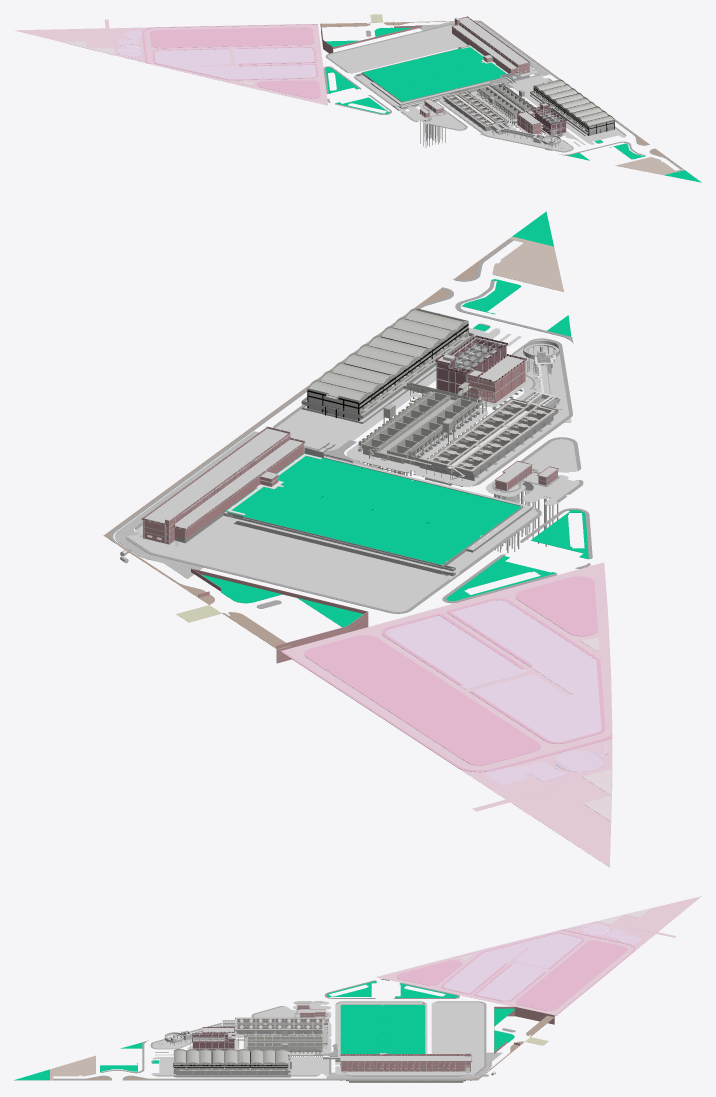
The model's file is wtp.glb.
3 renders of one model, top to bottom at view 1: azimuth 30°, elevation 25°; view 2: azimuth 150°, elevation 25°; view 3: azimuth 270°, elevation 25°, orthographic. The views are drawn at different scales.
Visible parts, largest first — view 1: Concrete_Cast_In_Situ_f_3, Asphalt_Pavement_Light_Grey_Future_f_8, Concrete_Cast_In_Situ_Future_f_9, Earth_Future_Area_f_7, Grass_f_61, Concrete_Cast_in_Place_Gray_f_90, Asphalt_Pavement_Light_Grey_f_4, Grass_f_2, Concrete_Cast_in_Place_Gray_f_81, Concrete_Cast_In_Situ_f_66, Default_Wall_f_54, Brick_Common_f_73 (+15 smaller); view 2: Concrete_Cast_In_Situ_f_3, Asphalt_Pavement_Light_Grey_Future_f_8, Concrete_Cast_In_Situ_Future_f_9, Grass_f_61, Earth_Future_Area_f_7, Concrete_Cast_in_Place_Gray_f_90, Grass_f_2, Asphalt_Pavement_Light_Grey_f_4, Concrete_Cast_in_Place_Gray_f_81, Concrete_Cast_In_Situ_f_66, Default_Wall_f_54, Brick_Common_f_73 (+12 smaller); view 3: Concrete_Cast_In_Situ_f_3, Asphalt_Pavement_Light_Grey_Future_f_8, Concrete_Cast_In_Situ_Future_f_9, Earth_Future_Area_f_7, Grass_f_61, Asphalt_Pavement_Light_Grey_f_4, Concrete_Cast_in_Place_Gray_f_90, Grass_f_2, Brick_Common_f_73, Concrete_Cast_in_Place_Gray_f_81, Default_Wall_f_54, Earth_Open_Area_f_5 (+13 smaller).
Part boxes in pixels (left/top/right/bottom): Concrete_Cast_In_Situ_f_3: left=327, top=25, right=625, bottom=151; Asphalt_Pavement_Light_Grey_Future_f_8: left=142, top=24, right=320, bottom=98; Concrete_Cast_In_Situ_Future_f_9: left=117, top=30, right=316, bottom=80; Earth_Future_Area_f_7: left=15, top=19, right=327, bottom=105; Grass_f_61: left=363, top=47, right=506, bottom=101; Concrete_Cast_in_Place_Gray_f_90: left=532, top=79, right=614, bottom=133; Asphalt_Pavement_Light_Grey_f_4: left=323, top=20, right=681, bottom=169; Grass_f_2: left=325, top=27, right=701, bottom=182; Concrete_Cast_in_Place_Gray_f_81: left=462, top=83, right=550, bottom=122; Concrete_Cast_In_Situ_f_66: left=452, top=17, right=528, bottom=83; Default_Wall_f_54: left=442, top=88, right=508, bottom=131; Brick_Common_f_73: left=451, top=16, right=530, bottom=74; Concrete_Cast_In_Situ_f_3: left=127, top=313, right=579, bottom=613; Asphalt_Pavement_Light_Grey_Future_f_8: left=280, top=576, right=612, bottom=772; Concrete_Cast_In_Situ_Future_f_9: left=385, top=600, right=609, bottom=785; Grass_f_61: left=225, top=453, right=520, bottom=564; Earth_Future_Area_f_7: left=283, top=562, right=612, bottom=867; Concrete_Cast_in_Place_Gray_f_90: left=302, top=308, right=470, bottom=418; Grass_f_2: left=201, top=211, right=588, bottom=627; Asphalt_Pavement_Light_Grey_f_4: left=109, top=239, right=592, bottom=613; Concrete_Cast_in_Place_Gray_f_81: left=358, top=382, right=483, bottom=468; Concrete_Cast_In_Situ_f_66: left=142, top=428, right=332, bottom=530; Default_Wall_f_54: left=414, top=398, right=558, bottom=480; Brick_Common_f_73: left=141, top=426, right=304, bottom=543; Concrete_Cast_In_Situ_f_3: left=151, top=1001, right=484, bottom=1076; Asphalt_Pavement_Light_Grey_Future_f_8: left=396, top=929, right=635, bottom=1015; Concrete_Cast_In_Situ_Future_f_9: left=443, top=924, right=641, bottom=1000; Earth_Future_Area_f_7: left=376, top=896, right=701, bottom=1015; Grass_f_61: left=340, top=1005, right=424, bottom=1054; Asphalt_Pavement_Light_Grey_f_4: left=53, top=979, right=515, bottom=1080; Concrete_Cast_in_Place_Gray_f_90: left=173, top=1049, right=290, bottom=1076; Grass_f_2: left=14, top=981, right=515, bottom=1080; Brick_Common_f_73: left=340, top=1053, right=472, bottom=1071; Concrete_Cast_in_Place_Gray_f_81: left=237, top=1028, right=327, bottom=1055; Default_Wall_f_54: left=235, top=1017, right=327, bottom=1034; Earth_Open_Area_f_5: left=53, top=1015, right=554, bottom=1080.
Bounding box in the file's own units: 422 × 52.42 × 667.
